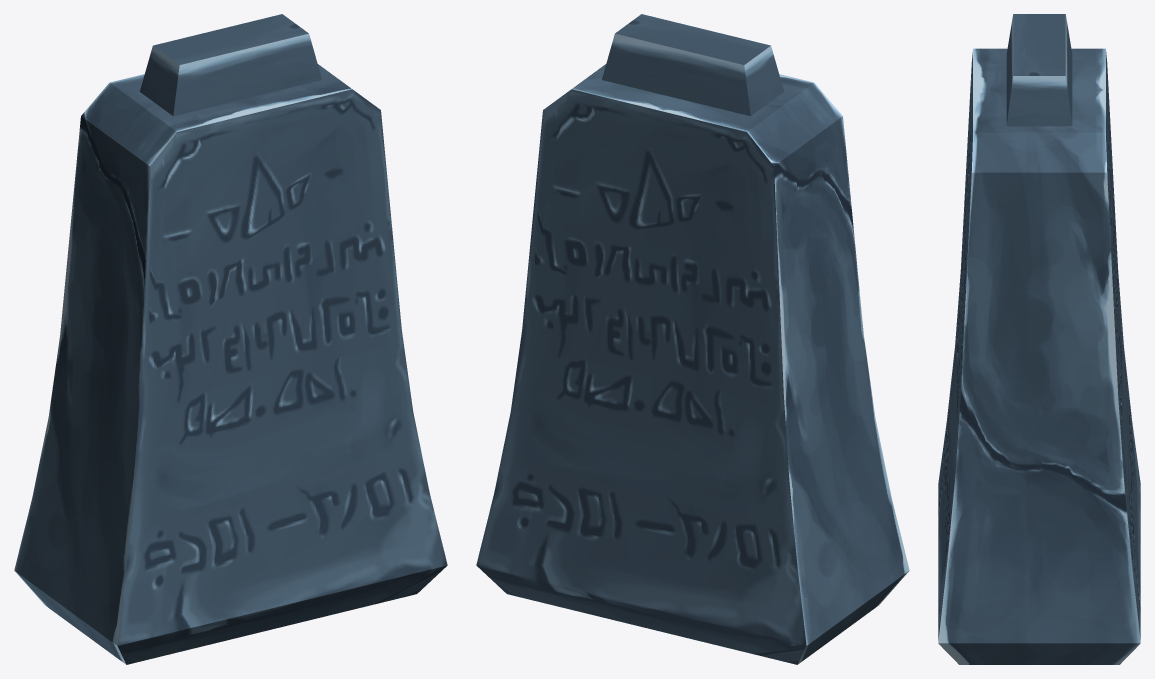
File: SM_PROP_gravestone_v10_01.fbx
3 views of the same model, side by side, from view 1: azimuth 30°, elevation 25°; view 2: azimuth 150°, elevation 25°; view 3: azimuth 270°, elevation 25° (orthographic).
Visible parts, largest first — view 1: SM_PROP_gravestone_v10_01; view 2: SM_PROP_gravestone_v10_01; view 3: SM_PROP_gravestone_v10_01.
Boxes of the visible parts, x1,y1,x2,y2 form: SM_PROP_gravestone_v10_01: (14,14,447,664); SM_PROP_gravestone_v10_01: (476,14,909,664); SM_PROP_gravestone_v10_01: (938,14,1140,664).
Bounding box in the file's own units: 88.55 × 143 × 47.89.
